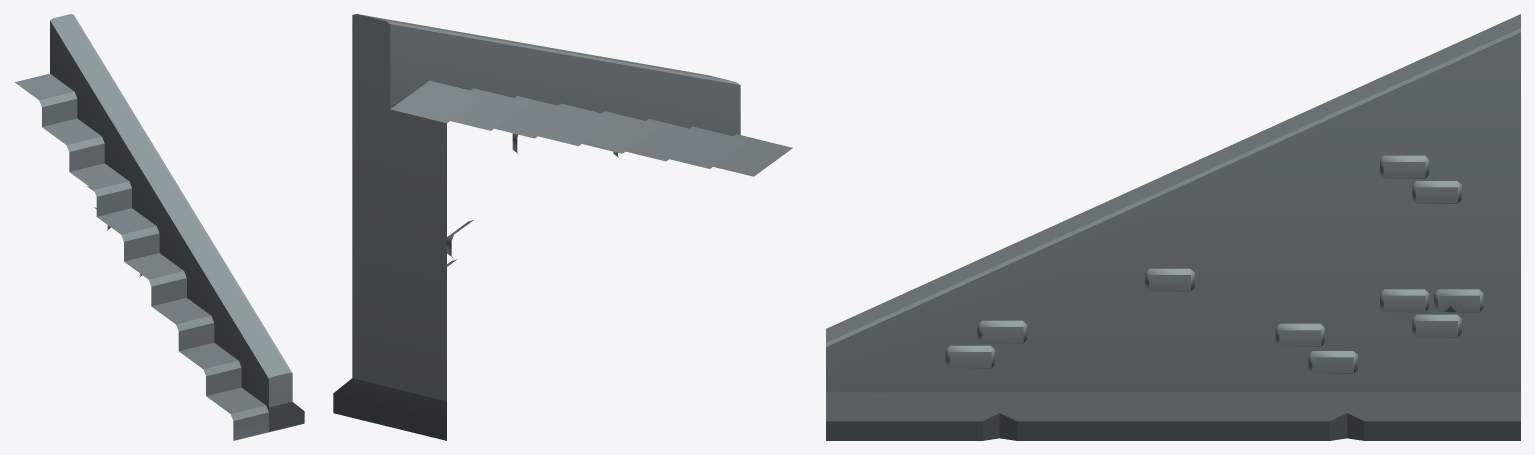
File: stairs_long_modular_right.gltf
3 renders of one model, left to right at view 1: azimuth 30°, elevation 25°; view 2: azimuth 150°, elevation 25°; view 3: azimuth 270°, elevation 25°, orthographic. The views are drawn at different scales.
Parts seen in each view (by area): view 1: stairs_long_modular_right; view 2: stairs_long_modular_right; view 3: stairs_long_modular_right.
Boxes of the visible parts, <box> form: stairs_long_modular_right: <box>15,14,304,440</box>; stairs_long_modular_right: <box>333,14,792,440</box>; stairs_long_modular_right: <box>826,14,1520,440</box>.
Size of the model in its own units: 1.5 by 5.1 by 8.
Materials: 1 (1 with a texture image).
